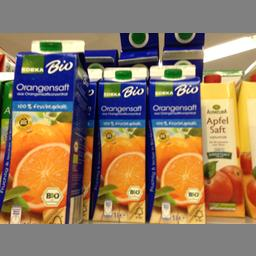juice: (0, 38, 88, 223), (146, 63, 204, 222), (96, 66, 149, 220)
